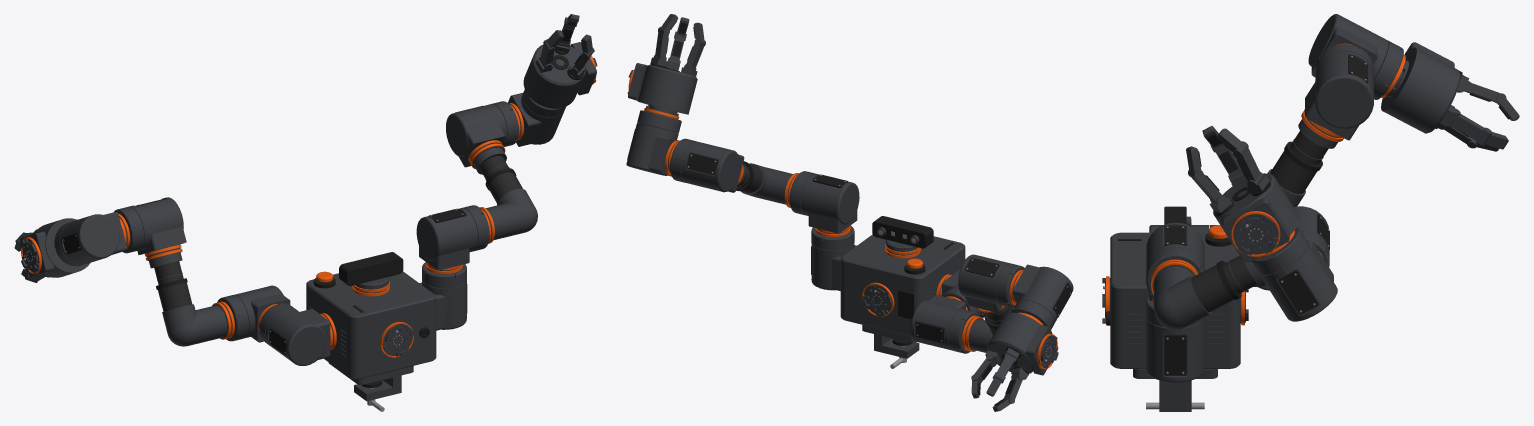
File: morph_dual_arm.glb
The picture shows the model from 3 angles, left to right: view 1: azimuth 30°, elevation 25°; view 2: azimuth 150°, elevation 25°; view 3: azimuth 270°, elevation 25°; orthographic projection. The views are drawn at different scales.
Parts seen in each view (by area): view 1: hub_housing, joint_r2_housing, joint_l1_housing, hand_r_palm, joint_r3_housing, joint_l4_housing, link_l1_elbow_casting, joint_l3_housing, link_r1_elbow_casting, eye_bar, hand_l_palm, joint_r1_housing (+12 smaller); view 2: hub_housing, joint_r2_housing, hand_r_palm, hand_l_palm, joint_r3_housing, joint_r4_housing, joint_l4_housing, joint_l3_housing, joint_l2_housing, joint_r1_housing, eye_bar, table_clamp_frame (+21 smaller); view 3: hub_housing, hand_l_palm, joint_l3_housing, joint_r4_housing, link_r1_elbow_casting, hand_r_palm, joint_r1_housing, joint_l4_housing, hand_r_port_aux_flange, table_clamp_frame, hand_r_finger_b, link_r1_sleeve (+20 smaller).
Boxes of the visible parts, box(x1,y1,x2,y2) form: hub_housing: box(306, 271, 436, 379); joint_r2_housing: box(416, 208, 477, 270); joint_l1_housing: box(265, 308, 330, 365); hand_r_palm: box(523, 42, 596, 108); joint_r3_housing: box(446, 104, 507, 167); joint_l4_housing: box(60, 211, 126, 264); link_l1_elbow_casting: box(162, 304, 227, 346); joint_l3_housing: box(128, 197, 186, 255); link_r1_elbow_casting: box(486, 188, 537, 240); eye_bar: box(339, 252, 403, 285); hand_l_palm: box(20, 218, 90, 277); joint_r1_housing: box(419, 279, 466, 330); hub_housing: box(840, 234, 965, 336); joint_r2_housing: box(800, 173, 859, 233); hand_r_palm: box(628, 63, 697, 114); hand_l_palm: box(987, 313, 1058, 375); joint_r3_housing: box(681, 141, 744, 192); joint_r4_housing: box(626, 123, 678, 176); joint_l4_housing: box(1012, 264, 1073, 322); joint_l3_housing: box(958, 254, 1010, 312); joint_l2_housing: box(910, 295, 965, 350); joint_r1_housing: box(811, 242, 856, 290); eye_bar: box(872, 216, 933, 248); table_clamp_frame: box(862, 325, 919, 358); hub_housing: box(1110, 232, 1240, 368); hand_l_palm: box(1381, 42, 1460, 133); joint_l3_housing: box(1305, 51, 1373, 140); joint_r4_housing: box(1259, 239, 1337, 321); link_r1_elbow_casting: box(1154, 266, 1211, 329); hand_r_palm: box(1213, 173, 1299, 262); joint_r1_housing: box(1146, 318, 1204, 382); joint_l4_housing: box(1308, 14, 1388, 78); hand_r_port_aux_flange: box(1233, 214, 1278, 255); table_clamp_frame: box(1133, 369, 1217, 411); hand_r_finger_b: box(1217, 128, 1269, 193); link_r1_sleeve: box(1191, 265, 1234, 312).
Bounding box in the file's own units: 1.15 × 0.7116 × 0.6396.
